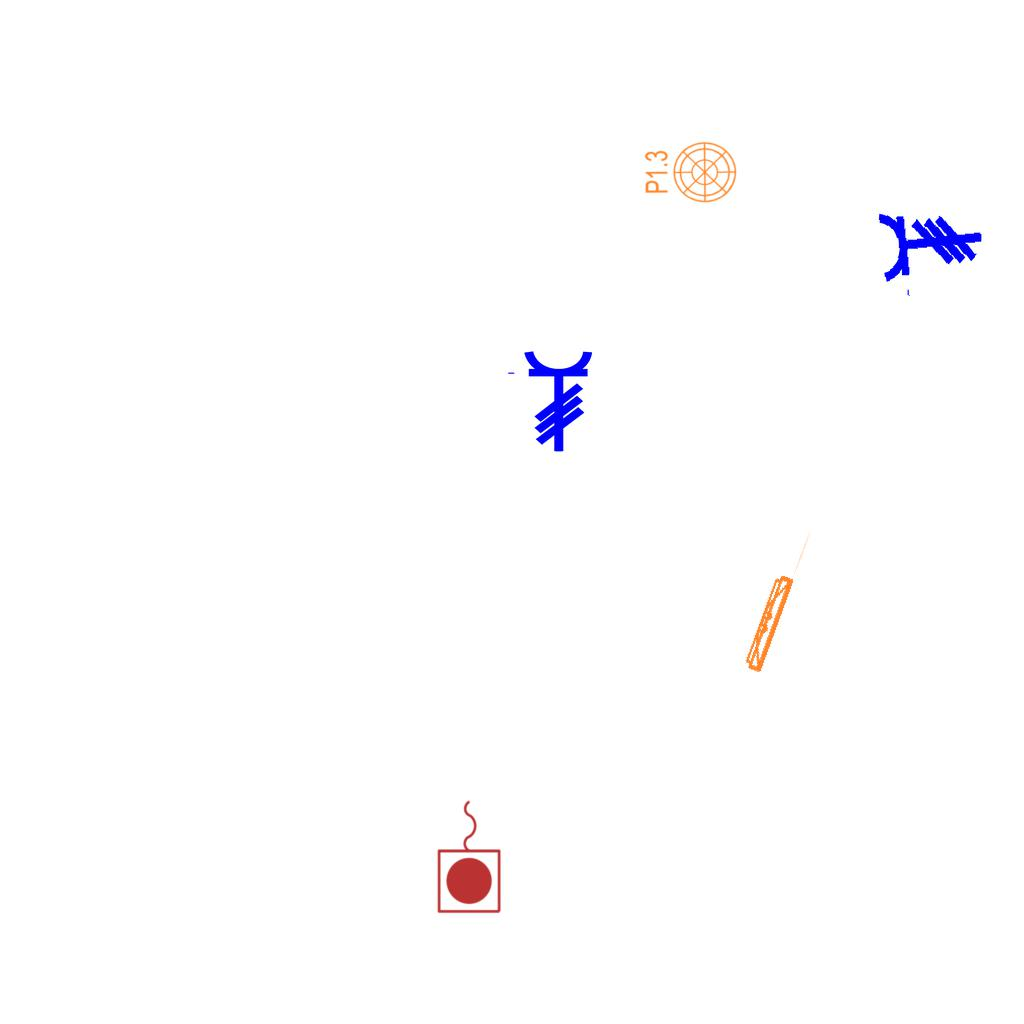Aufbaurundleuchte_LED_Treppenhaus: (636, 135, 738, 204)
CEE_Drehstrom_Steckdose_16_32_A: (875, 200, 989, 302), (505, 349, 595, 453)
Sicherheitsleuchte_Wandeinbau: (737, 520, 816, 679)
Zugtaster: (434, 795, 506, 917)
